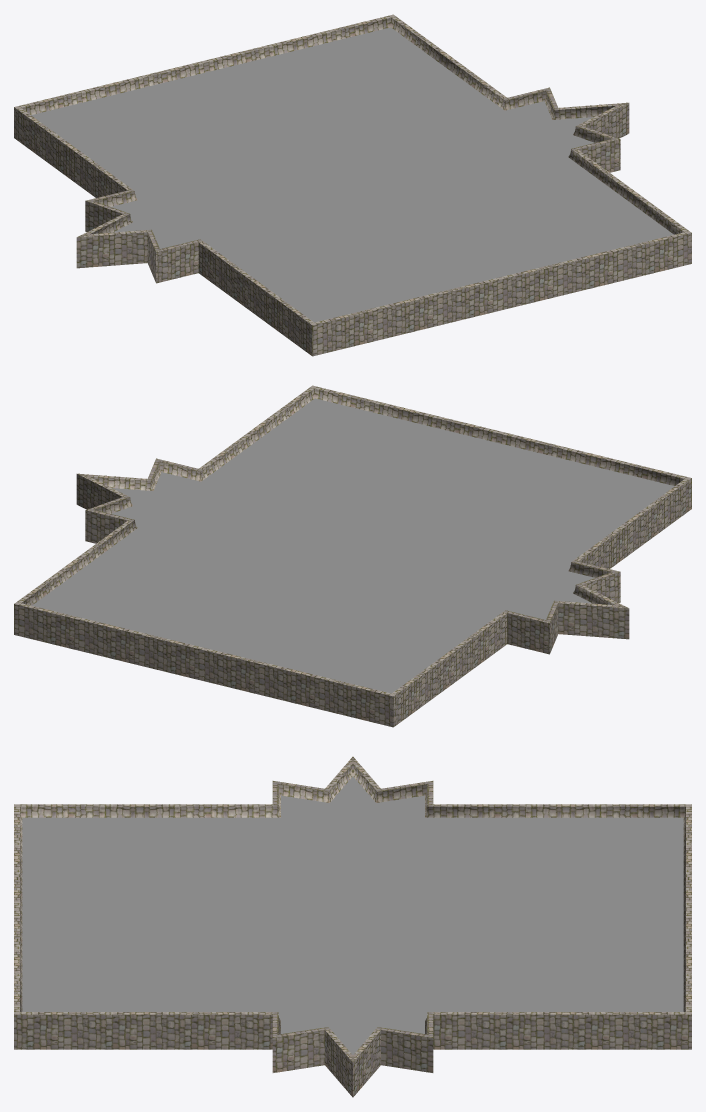
File: PH_MOD_Fountain-A.FBX
3 views of the same model, one above another, from view 1: azimuth 30°, elevation 25°; view 2: azimuth 150°, elevation 25°; view 3: azimuth 270°, elevation 25° (orthographic). The views are drawn at different scales.
Visible parts, largest first — view 1: PH_Fountain-A; view 2: PH_Fountain-A; view 3: PH_Fountain-A.
Boxes of the visible parts, x1,y1,x2,y2 form: PH_Fountain-A: (14,14,691,356); PH_Fountain-A: (14,385,691,727); PH_Fountain-A: (14,756,691,1097).
Size of what is drawn, in the model's own units: 3682 by 197 by 3443.
